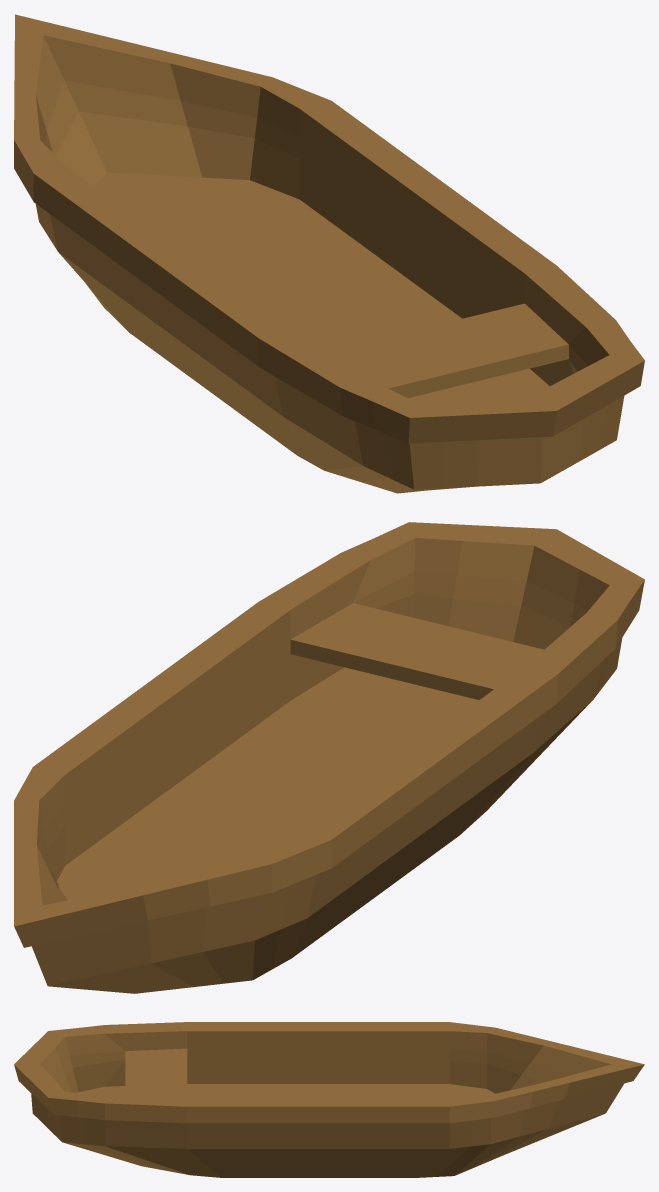
3 views of the same model, one above another, from view 1: azimuth 30°, elevation 25°; view 2: azimuth 150°, elevation 25°; view 3: azimuth 270°, elevation 25° (orthographic). The views are drawn at different scales.
Visible parts, largest first — view 1: Plane.001; view 2: Plane.001; view 3: Plane.001.
Part boxes in pixels (x1,y1,x2,y2): Plane.001: [14, 14, 644, 493]; Plane.001: [14, 522, 644, 993]; Plane.001: [14, 1022, 644, 1177].
Size of the model in its own units: 227 by 129 by 716.
